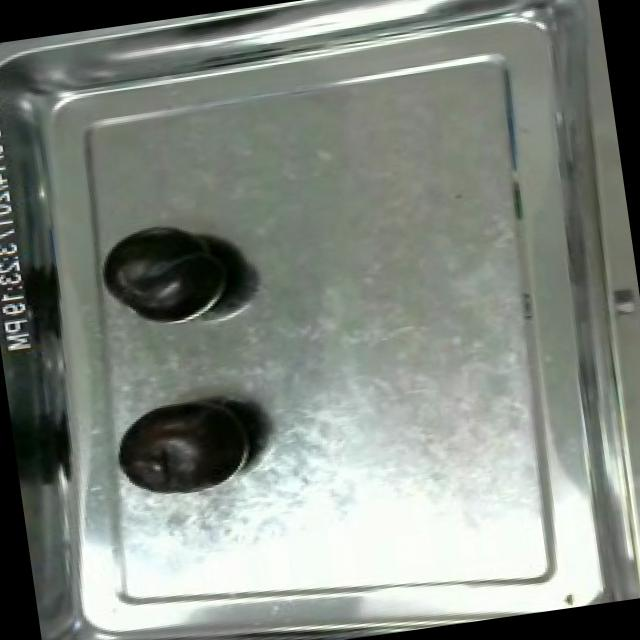Fruit: (106, 384, 268, 506), (95, 214, 242, 332)
